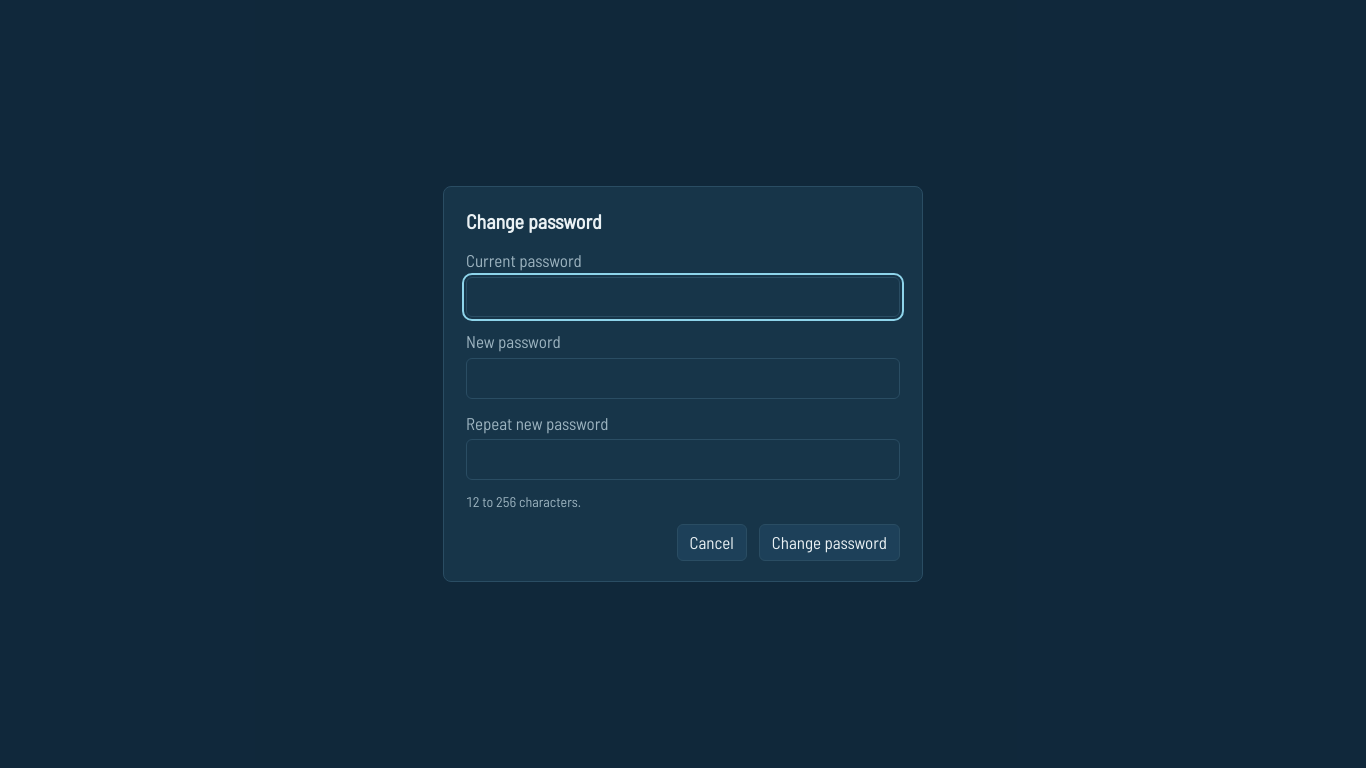
it: PasswordDialog › keeps the dialog open with a message for 403 and clears the fields
The width and height of the screenshot is (1366, 768).
Step 1. Type "old-password" into the password field labelled "Current password" → (683, 297), box [466,277,900,317]
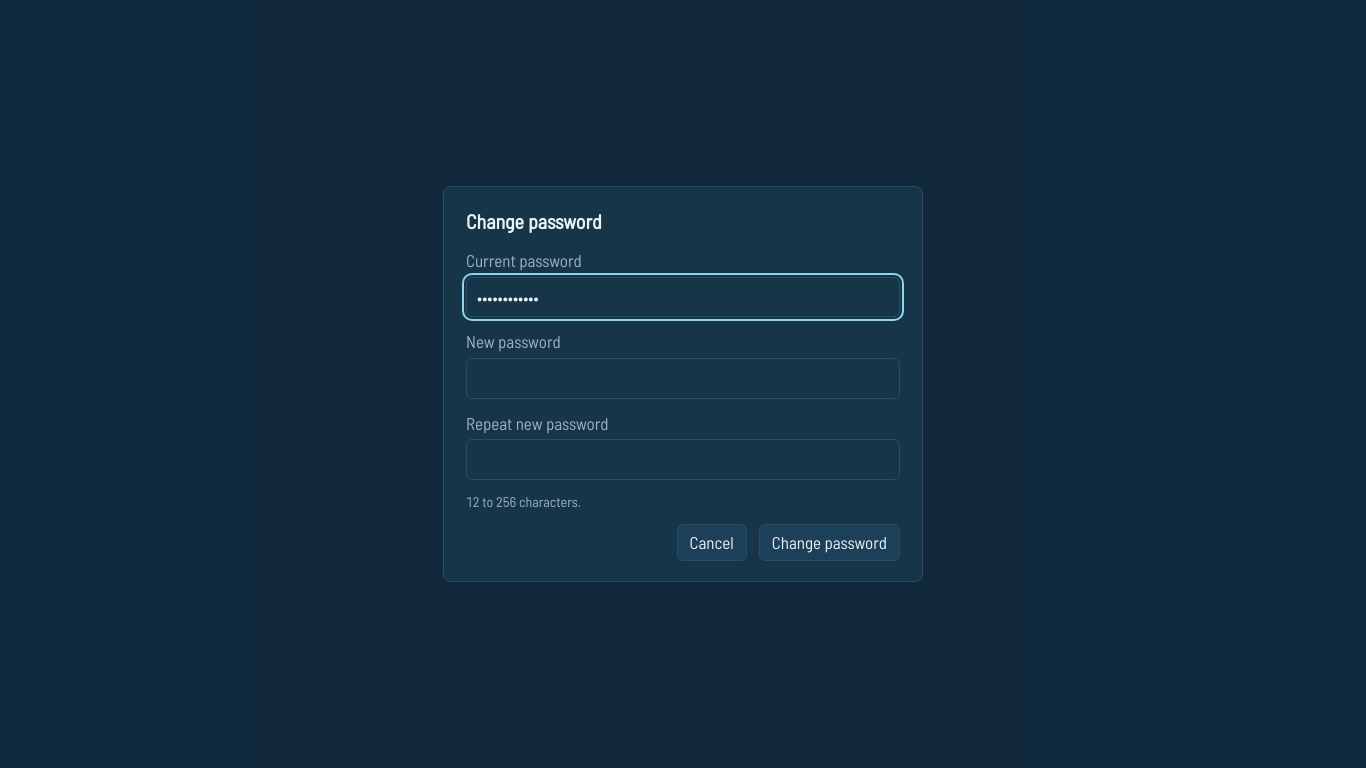
Step 2. Type "a-long-new-password" into the password field labelled "New password" → (683, 378), box [466,358,900,399]
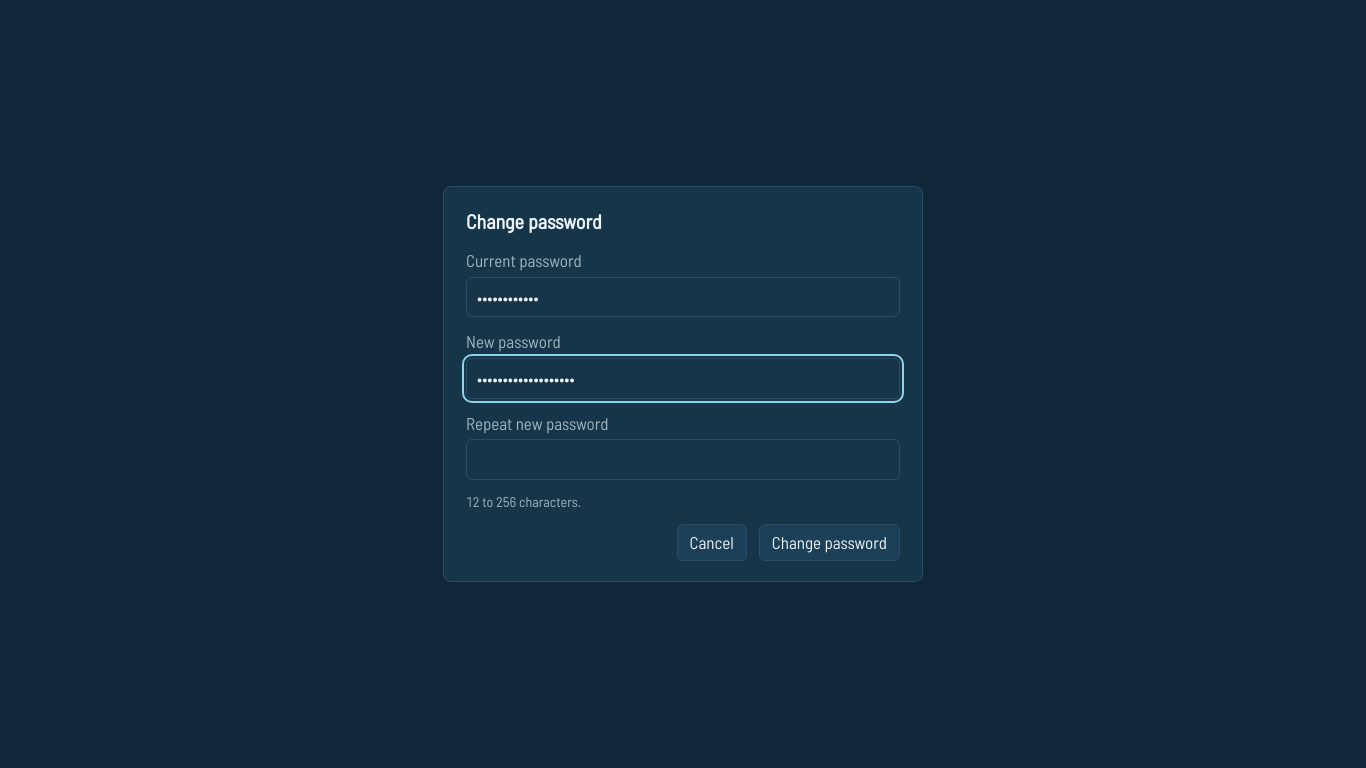
Step 3. Type "a-long-new-password" into the password field labelled "Repeat new password" → (683, 460), box [466,439,900,480]
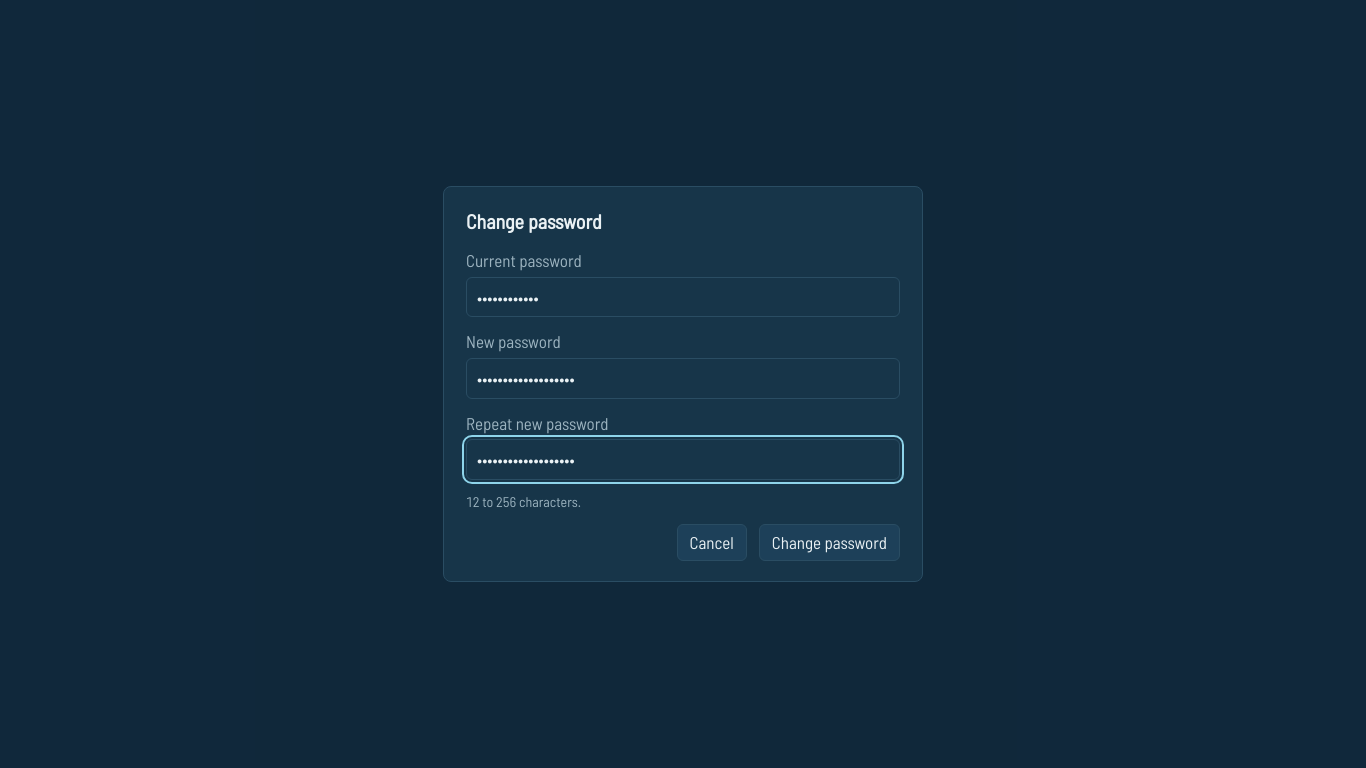
Step 4. Click the button "Change password" → (829, 543), box [759,524,900,561]
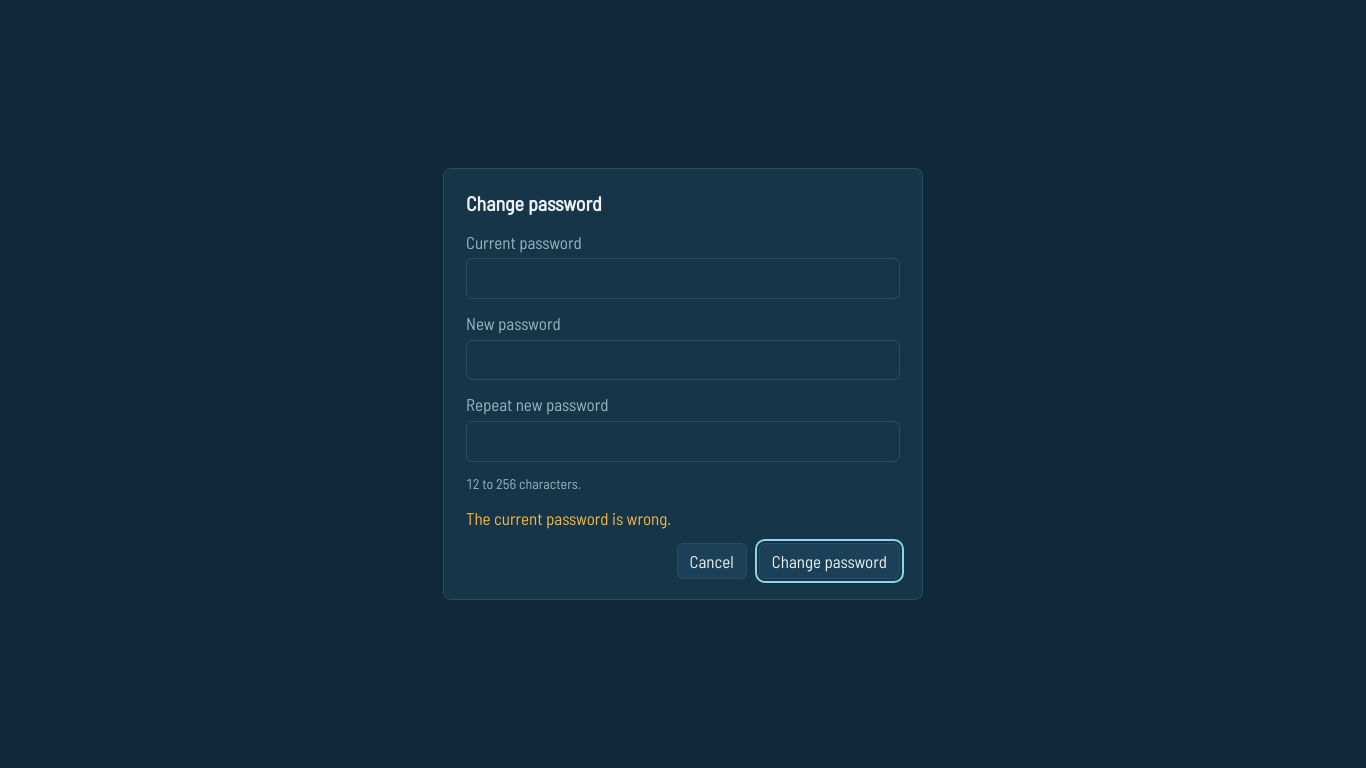
Result: the text "The current password is wrong." is shown at [466,508,671,528]
Result: the password field labelled "Current password" is empty at [466,258,900,299]
Result: the password field labelled "New password" is empty at [466,340,900,380]
